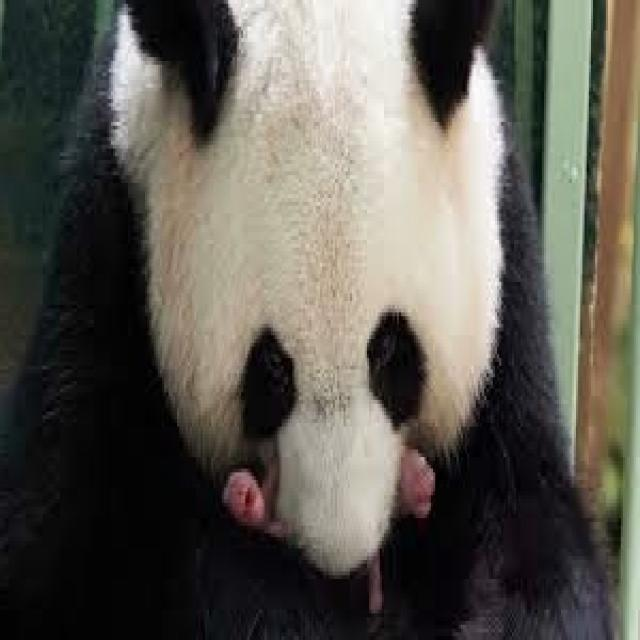panda: (2, 0, 614, 636)
